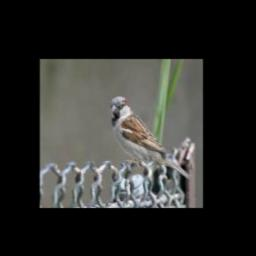Sparrow: (110, 96, 191, 181)
